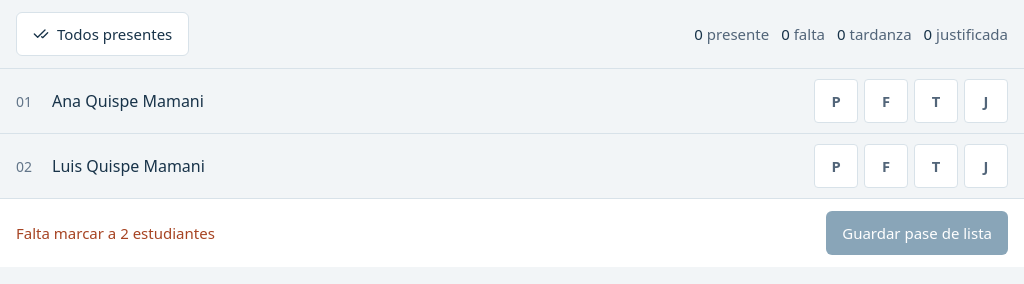
Test: AttendanceSheet › no envía mientras falten estudiantes por marcar
Step 1. Click the radio button named "Ana Quispe Mamani: Presente" → (836, 101), box x1=814 y1=79 x2=858 y2=123
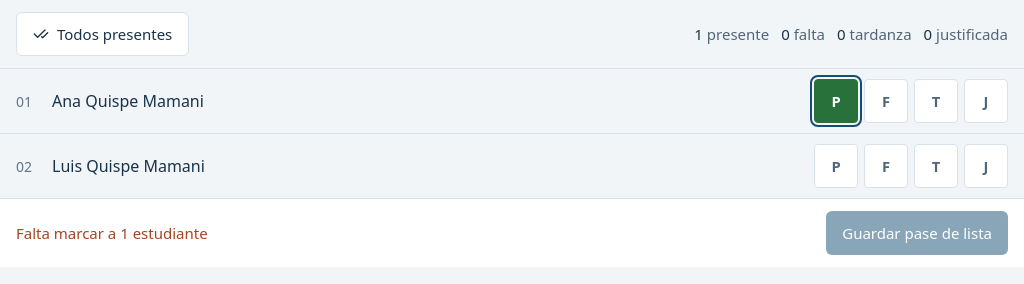
Expected: the button "Guardar pase de lista" is disabled, x1=826 y1=211 x2=1008 y2=255
Now the text "Falta marcar a 1 estudiante" is shown, box x1=16 y1=222 x2=208 y2=244
